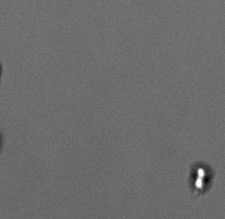Living Cell: (188, 162, 211, 194)
